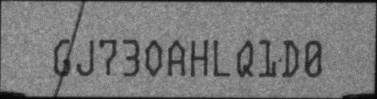0: (304, 38, 323, 78)
1: (259, 36, 278, 78)
3: (122, 37, 142, 76)
7: (97, 38, 118, 75)
A: (167, 39, 187, 77)
D: (282, 38, 300, 77)
F: (52, 39, 72, 77)
H: (189, 38, 207, 77)
J: (77, 38, 95, 76)
L: (212, 39, 232, 78)
O: (145, 38, 163, 77)
Q: (236, 40, 255, 78)
